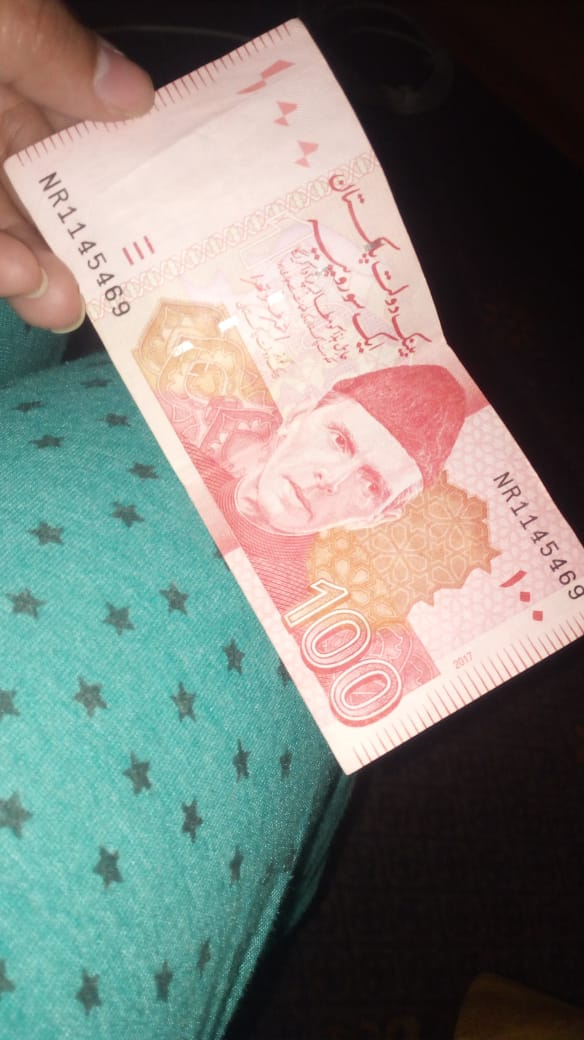100 rupee: (22, 29, 584, 768)
